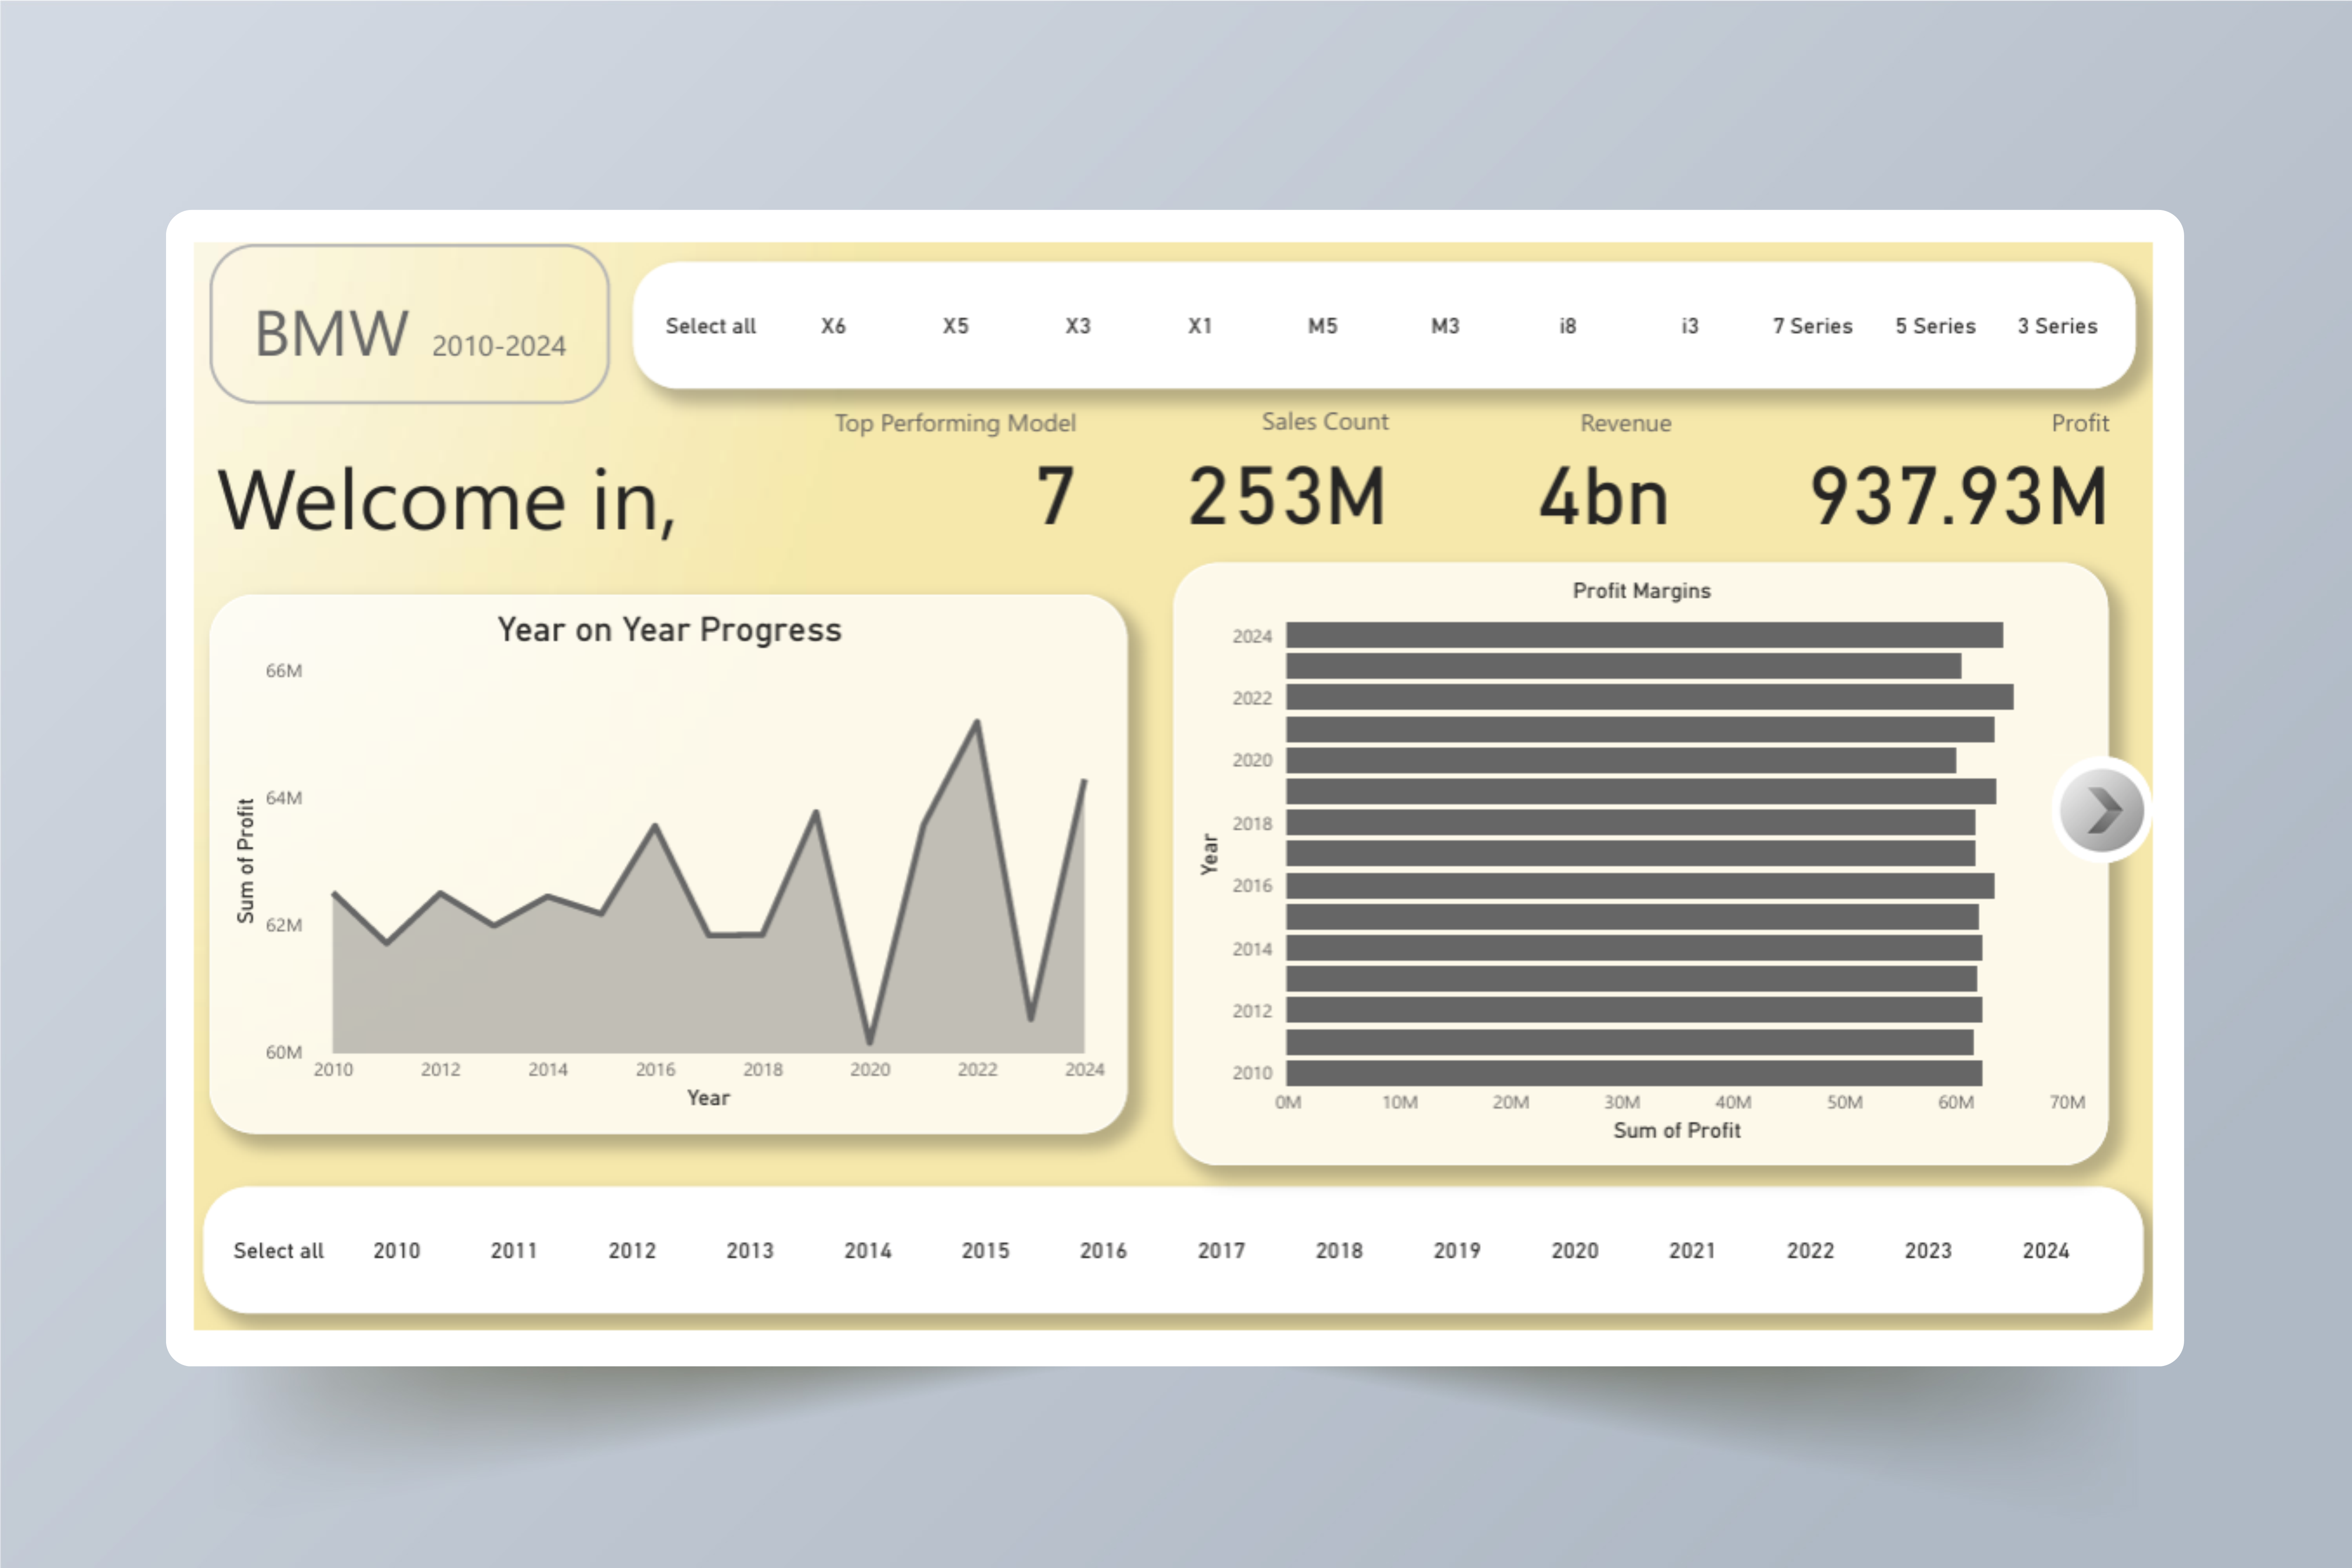

This screenshot's page, from the dashboard's own definition file:
{"tool":"powerbi","page":{"name":"Overall Analysis","canvas":[1280,720],"ordinal":0},"visuals":[{"type":"textbox","box":[10,0.6,261.7,106.7],"z":0},{"type":"textbox","box":[10,125,363.3,91.7],"z":1000},{"type":"advancedSlicerVisual","fields":{"Values":["BMW sales data (2010-2024) (1).Model"]},"box":[287.1,12.9,981.4,84.3],"z":2000},{"type":"cardVisual","fields":{"Data":["Sum(BMW sales data (2010-2024) (1).Profit)"]},"box":[1035.6,87.8,233.1,128.8],"z":3000},{"type":"cardVisual","fields":{"Data":["Sum(BMW sales data (2010-2024) (1).Price_USD)"]},"box":[778.6,88.6,204.3,128.6],"z":4000},{"type":"cardVisual","fields":{"Data":["Sum(BMW sales data (2010-2024) (1).Sales_Volume)"]},"box":[593.8,87.9,204.3,128.6],"z":5000},{"type":"advancedSlicerVisual","fields":{"Values":["BMW sales data (2010-2024) (1).Year"]},"box":[5.6,625,1268.8,83.8],"z":6000},{"type":"lineChart","title":"Year on Year Progress","fields":{"Category":["BMW sales data (2010-2024) (1).Year"],"Y":["Sum(BMW sales data (2010-2024) (1).Profit)"]},"box":[10,233.4,600,356.7],"z":7000},{"type":"barChart","title":"Profit Margins","fields":{"Category":["BMW sales data (2010-2024) (1).Year"],"Y":["Sum(BMW sales data (2010-2024) (1).Profit)"]},"box":[640,212.4,611.2,398.8],"z":8000},{"type":"cardVisual","fields":{"Data":["BMW_Sales.Top Performing Model"]},"box":[372.9,88.6,221.4,128.6],"z":9000},{"type":"actionButton","box":[1214.3,340,65.7,71.4],"z":10000}]}

Visuals, with their boxes on the page's 1280x720 design canvas (x1, y1, x2, y2). These are canvas units, not pixel positions in the 2352x1568 screenshot, which may show the page scaled, cropped or inside an application window:
textbox: 10:1:272:107
textbox: 10:125:373:217
advancedSlicerVisual - BMW sales data (2010-2024) (1).Model: 287:13:1268:97
cardVisual - Sum(BMW sales data (2010-2024) (1).Profit): 1036:88:1269:217
cardVisual - Sum(BMW sales data (2010-2024) (1).Price_USD): 779:89:983:217
cardVisual - Sum(BMW sales data (2010-2024) (1).Sales_Volume): 594:88:798:216
advancedSlicerVisual - BMW sales data (2010-2024) (1).Year: 6:625:1274:709
"Year on Year Progress" lineChart: 10:233:610:590
"Profit Margins" barChart: 640:212:1251:611
cardVisual - BMW_Sales.Top Performing Model: 373:89:594:217
actionButton: 1214:340:1280:411
